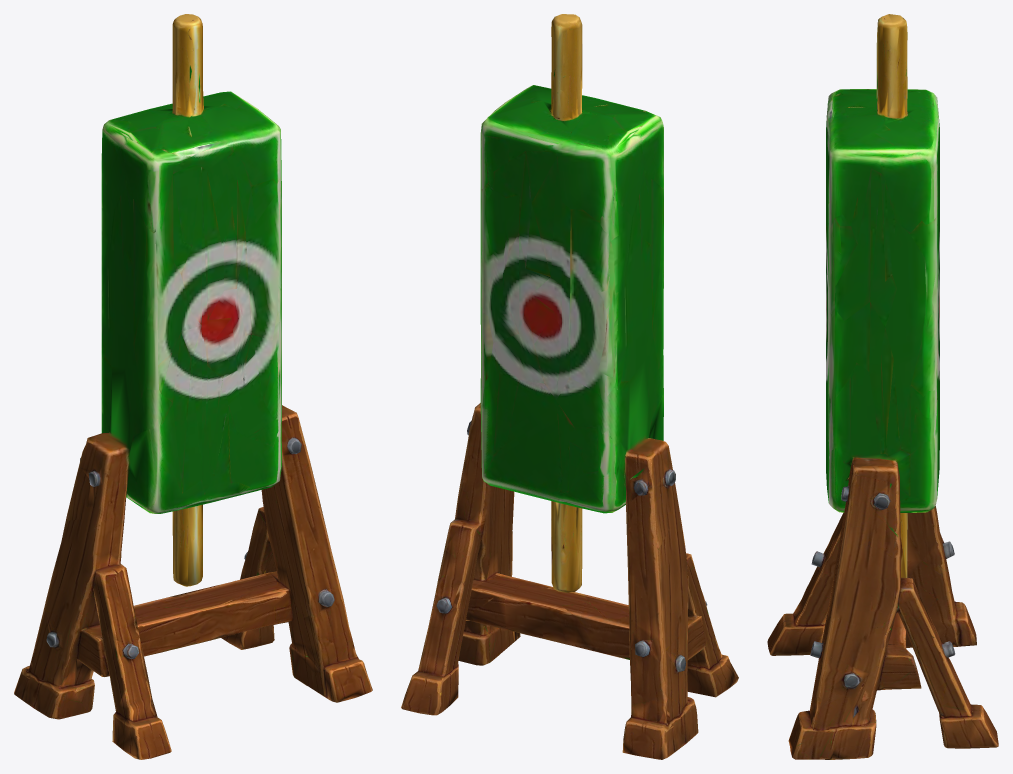
The model's file is target_green.glb.
3 views of the same model, side by side, from view 1: azimuth 30°, elevation 25°; view 2: azimuth 150°, elevation 25°; view 3: azimuth 270°, elevation 25° (orthographic).
Bounding box in the file's own units: 0.8119 × 1.9 × 0.5901.
Materials: 1 (1 with a texture image).
